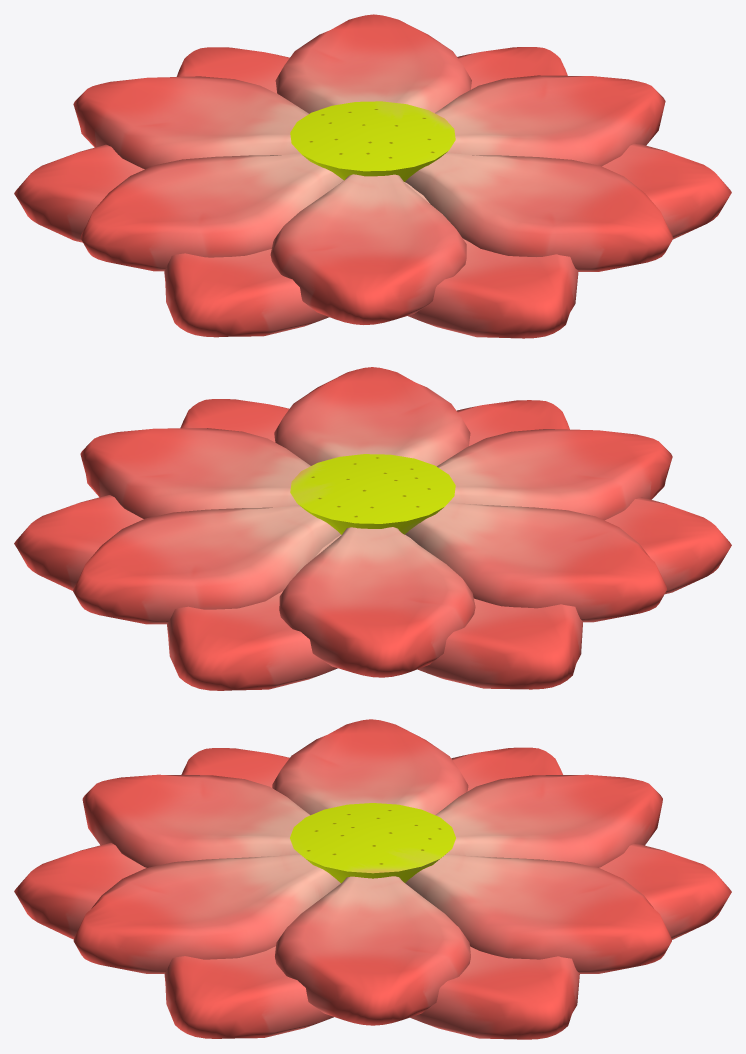
Rendered from hoa7.fbx.
3 views of the same model, one above another, from view 1: azimuth 30°, elevation 25°; view 2: azimuth 150°, elevation 25°; view 3: azimuth 270°, elevation 25° (orthographic).
Visible parts, largest first — view 1: polySurface85, polySurface86, polySurface44, polySurface45, polySurface51, polySurface49, polySurface55, polySurface48, polySurface47, polySurface54, polySurface56, polySurface53 (+1 smaller); view 2: polySurface49, polySurface45, polySurface44, polySurface51, polySurface86, polySurface85, polySurface53, polySurface54, polySurface47, polySurface48, polySurface52, polySurface55 (+1 smaller); view 3: polySurface85, polySurface49, polySurface51, polySurface86, polySurface45, polySurface44, polySurface56, polySurface52, polySurface47, polySurface53, polySurface55, polySurface54 (+1 smaller).
Boxes of the visible parts, bbox=[...] form: polySurface85: bbox=[405, 152, 672, 271]; polySurface86: bbox=[270, 174, 466, 324]; polySurface44: bbox=[80, 153, 343, 271]; polySurface45: bbox=[73, 76, 308, 169]; polySurface51: bbox=[435, 75, 665, 166]; polySurface49: bbox=[275, 14, 471, 113]; polySurface55: bbox=[404, 182, 578, 338]; polySurface48: bbox=[164, 249, 329, 337]; polySurface47: bbox=[290, 101, 455, 181]; polySurface54: bbox=[14, 144, 144, 242]; polySurface56: bbox=[602, 143, 731, 239]; polySurface53: bbox=[176, 47, 289, 93]; polySurface49: bbox=[73, 505, 340, 624]; polySurface45: bbox=[279, 527, 475, 677]; polySurface44: bbox=[405, 503, 666, 622]; polySurface51: bbox=[80, 428, 310, 518]; polySurface86: bbox=[437, 429, 672, 520]; polySurface85: bbox=[274, 367, 470, 466]; polySurface53: bbox=[167, 535, 341, 690]; polySurface54: bbox=[404, 534, 582, 689]; polySurface47: bbox=[290, 454, 455, 534]; polySurface48: bbox=[605, 497, 731, 594]; polySurface52: bbox=[14, 495, 143, 590]; polySurface55: bbox=[457, 400, 569, 445]; polySurface85: bbox=[73, 854, 340, 973]; polySurface49: bbox=[405, 854, 671, 973]; polySurface51: bbox=[275, 876, 470, 1025]; polySurface86: bbox=[82, 774, 310, 867]; polySurface45: bbox=[435, 774, 662, 867]; polySurface44: bbox=[272, 719, 468, 815]; polySurface56: bbox=[164, 946, 333, 1038]; polySurface52: bbox=[410, 946, 579, 1039]; polySurface47: bbox=[290, 803, 455, 883]; polySurface53: bbox=[599, 843, 731, 939]; polySurface55: bbox=[14, 842, 146, 939]; polySurface54: bbox=[451, 747, 562, 791].
Bounding box in the file's own units: 81.97 × 12.53 × 87.5.
1 material, 1 textured.
